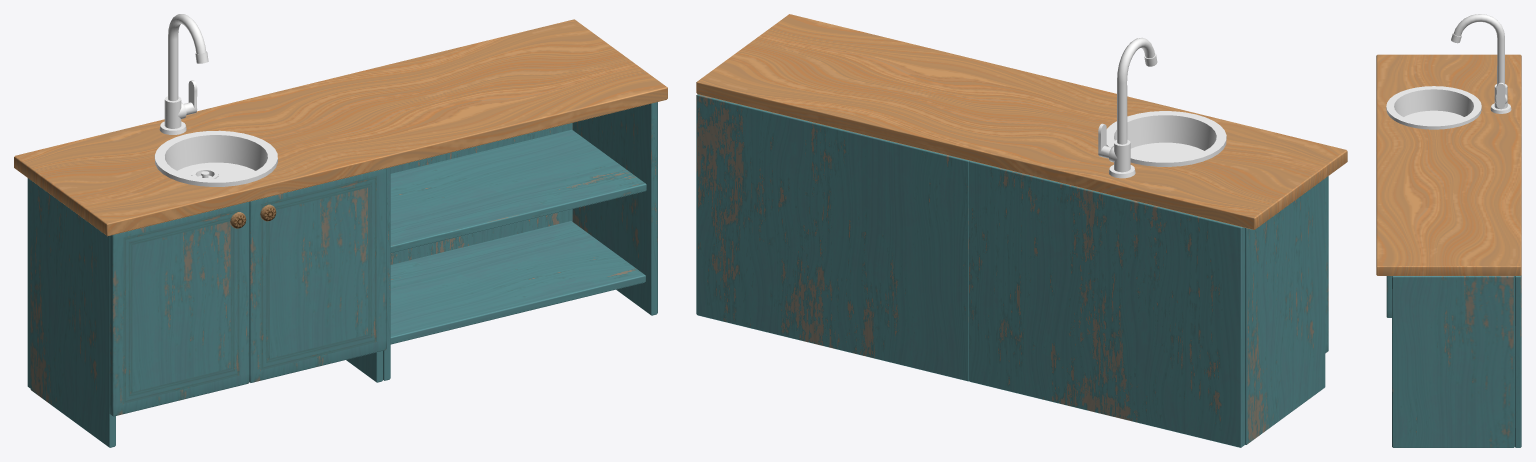
File: blue-kitchen3.obj
3 views of the same model, side by side, from view 1: azimuth 30°, elevation 25°; view 2: azimuth 150°, elevation 25°; view 3: azimuth 270°, elevation 25° (orthographic). The views are drawn at different scales.
Parts seen in each view (by area): view 1: blue_kitchen3:Cabinet_Shelf_AFBXASC046012; view 2: blue_kitchen3:Cabinet_Shelf_AFBXASC046012; view 3: blue_kitchen3:Cabinet_Shelf_AFBXASC046012.
Boxes of the visible parts, x1=… form: blue_kitchen3:Cabinet_Shelf_AFBXASC046012: x1=14, y1=14, x2=667, y2=447; blue_kitchen3:Cabinet_Shelf_AFBXASC046012: x1=696, y1=14, x2=1347, y2=447; blue_kitchen3:Cabinet_Shelf_AFBXASC046012: x1=1376, y1=14, x2=1521, y2=447.
Bounding box in the file's own units: 300 × 183 × 86.65.
Materials: 2 (1 with a texture image).
